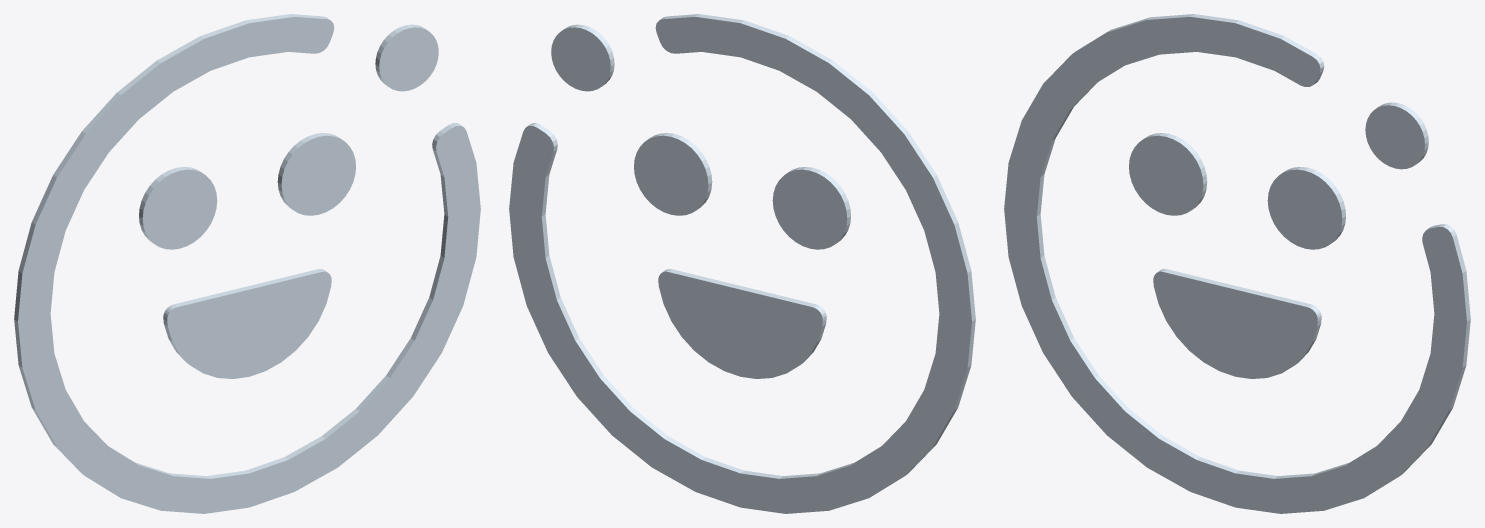
The model's file is Emoji_Face_3D_Icon.fbx.
The picture shows the model from 3 angles, left to right: view 1: azimuth 30°, elevation 25°; view 2: azimuth 150°, elevation 25°; view 3: azimuth 330°, elevation 25°; orthographic projection.
Visible parts, largest first — view 1: Emoji_Face_3D_Icon; view 2: Emoji_Face_3D_Icon; view 3: Emoji_Face_3D_Icon.
Part boxes in pixels (x1,y1,x2,y2): Emoji_Face_3D_Icon: (14, 14, 480, 513); Emoji_Face_3D_Icon: (509, 14, 975, 513); Emoji_Face_3D_Icon: (1004, 14, 1470, 513).
Size of the model in its own units: 139 by 139 by 2.
